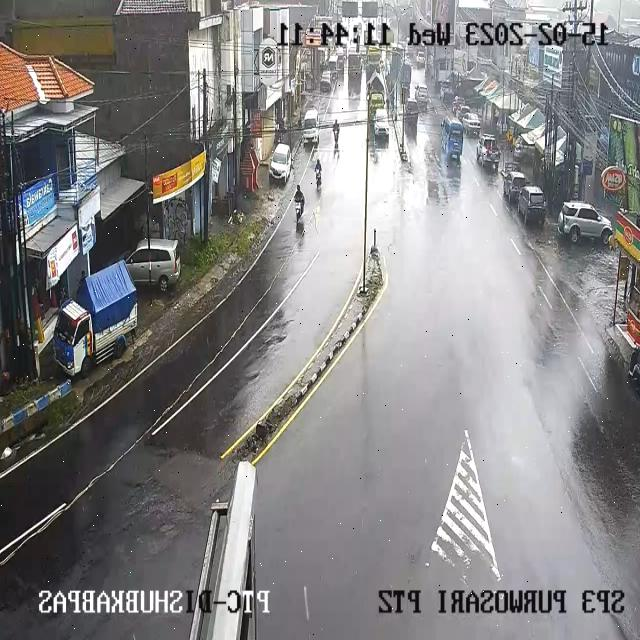Bus: (433, 117, 463, 164)
Car: (128, 237, 182, 292), (556, 204, 614, 240), (516, 186, 548, 224), (271, 144, 293, 183), (476, 134, 501, 168), (502, 170, 528, 202), (302, 108, 320, 144), (461, 112, 481, 136), (373, 108, 389, 137), (414, 84, 430, 108), (320, 71, 334, 93), (514, 139, 526, 161), (406, 98, 419, 118), (455, 104, 471, 120), (328, 55, 339, 74), (416, 50, 426, 66), (336, 47, 346, 63)
Motorbike: (292, 180, 306, 223), (314, 159, 321, 187), (332, 120, 340, 144)
Truck: (52, 259, 134, 379), (347, 49, 363, 75), (366, 45, 382, 70), (369, 92, 385, 112)
